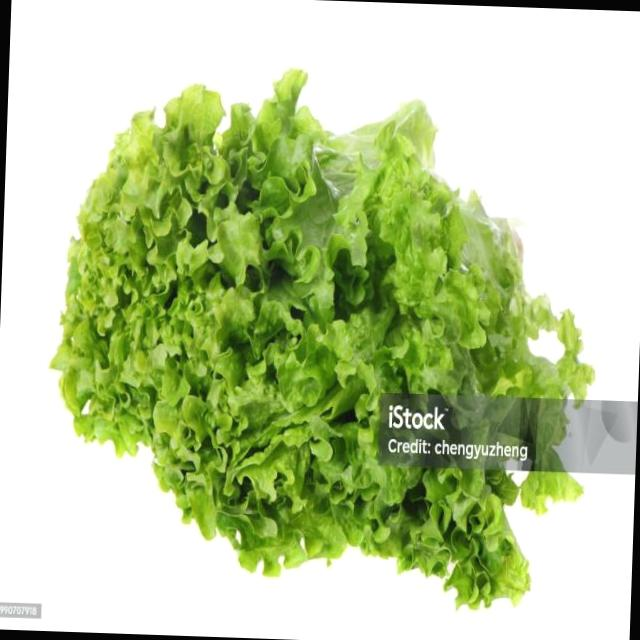Lettuce-Ready-to-Harvest: (53, 70, 591, 605)
